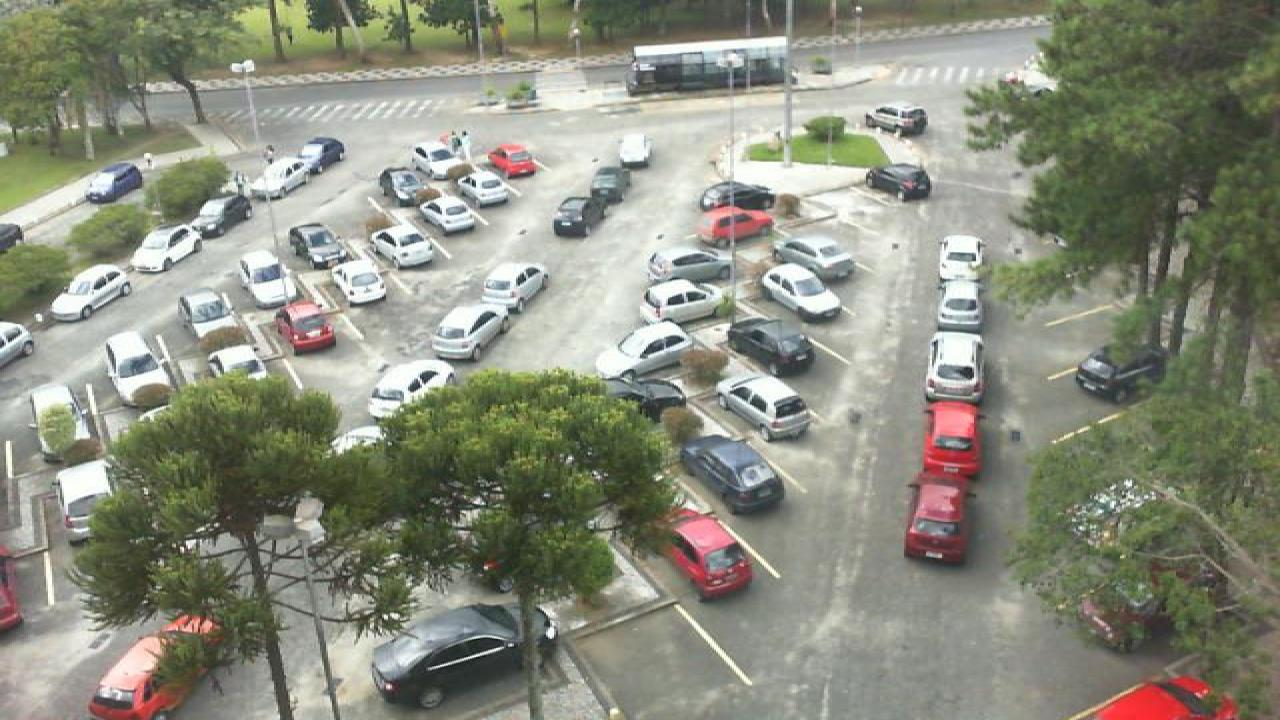Car: (370, 603, 556, 708), (86, 612, 234, 720), (680, 433, 786, 513), (662, 507, 754, 598), (1078, 674, 1240, 720), (902, 470, 976, 565), (594, 318, 696, 382), (716, 374, 816, 439), (1074, 343, 1168, 406), (30, 382, 104, 461), (366, 360, 460, 421), (726, 317, 816, 377), (918, 398, 986, 477), (758, 262, 846, 323), (56, 456, 118, 542), (106, 332, 174, 408), (428, 300, 512, 360), (48, 264, 132, 322), (924, 330, 986, 402), (770, 234, 856, 282), (602, 375, 688, 423), (642, 278, 728, 324), (128, 225, 204, 273), (478, 261, 548, 313), (274, 300, 336, 354), (176, 287, 238, 340), (644, 248, 732, 284), (238, 249, 294, 305), (330, 261, 388, 315), (696, 205, 778, 243), (370, 225, 436, 270), (286, 222, 342, 271), (864, 162, 932, 201), (934, 281, 986, 332), (194, 195, 252, 240), (84, 162, 144, 205), (246, 158, 306, 200), (698, 179, 776, 211), (206, 343, 270, 380), (864, 102, 930, 136), (938, 234, 984, 282), (420, 194, 478, 232), (376, 168, 430, 208), (550, 195, 598, 238), (488, 143, 540, 179), (458, 173, 512, 207), (410, 143, 462, 178), (296, 135, 346, 171), (0, 320, 34, 368), (586, 165, 626, 205), (618, 135, 654, 169)
